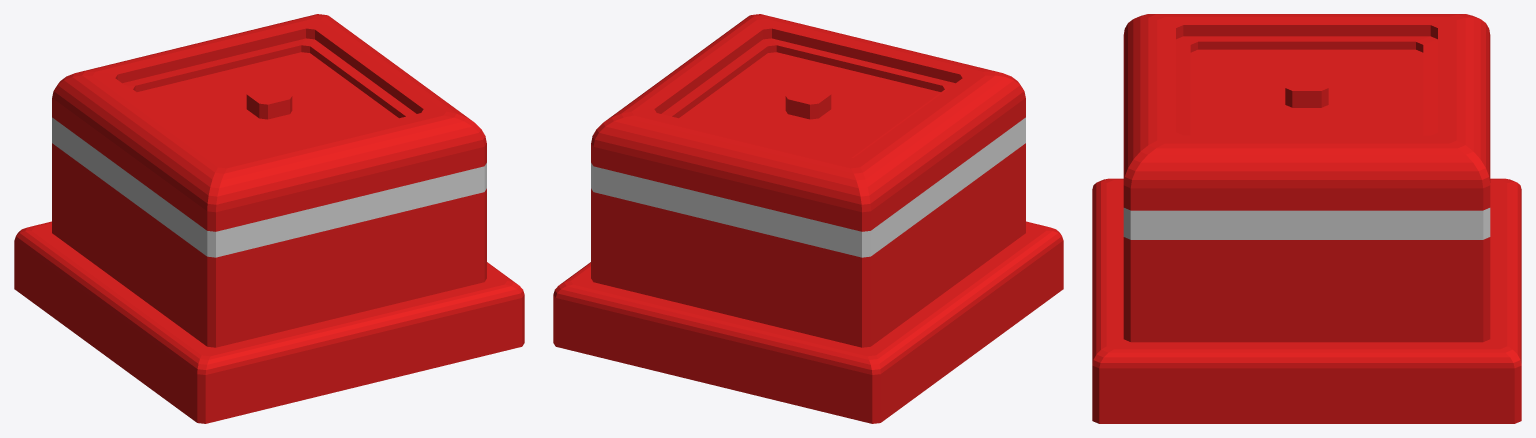
Rendered from BlenderBase.fbx.
The picture shows the model from 3 angles, left to right: view 1: azimuth 30°, elevation 25°; view 2: azimuth 150°, elevation 25°; view 3: azimuth 270°, elevation 25°; orthographic projection. The views are drawn at different scales.
Visible parts, largest first — view 1: BlenderBase; view 2: BlenderBase; view 3: BlenderBase.
Part boxes in pixels (<box>): BlenderBase: <box>14,14,524,423</box>; BlenderBase: <box>553,14,1063,423</box>; BlenderBase: <box>1092,14,1521,423</box>.
Size of the model in its own units: 231 by 150 by 231.
